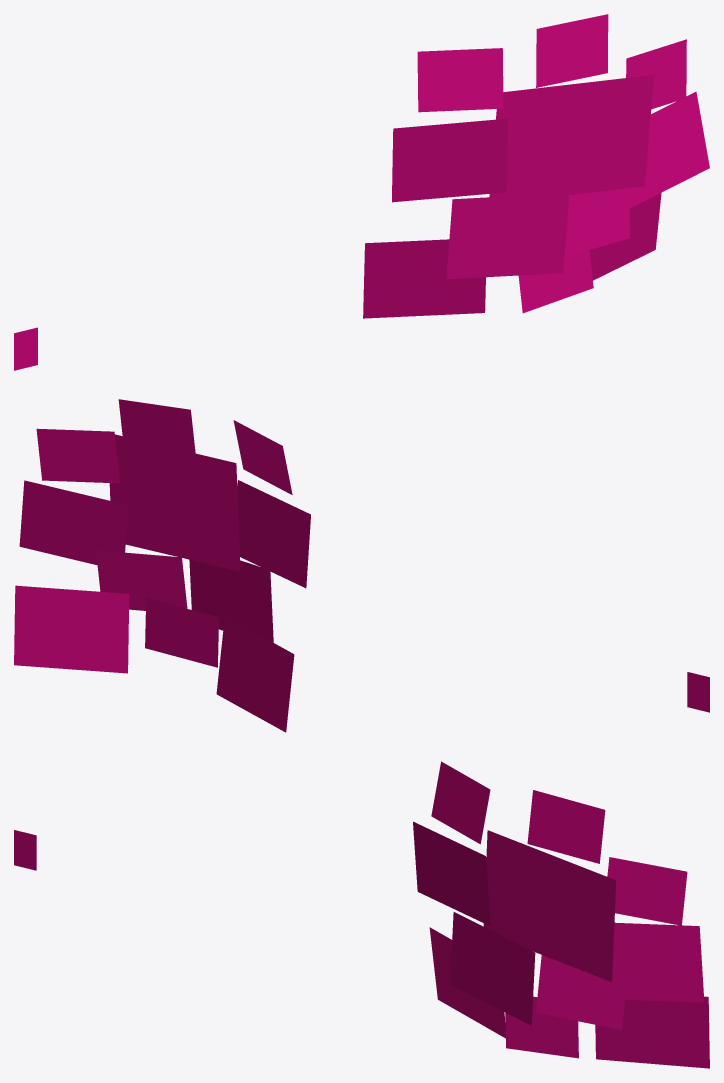
Rendered from roomscreens.fbx.
The picture shows the model from 3 angles, top to bottom: view 1: azimuth 30°, elevation 25°; view 2: azimuth 150°, elevation 25°; view 3: azimuth 330°, elevation 25°; orthographic projection. The views are drawn at different scales.
Visible parts, largest first — view 1: pPlane1, pPlane7, pPlane2, mainpc1, pPlane5, pPlane3, pPlane8, pPlane6, mainpc, pPlane4, pPlane9, doorpanel; view 2: pPlane1, mainpc, pPlane3, mainpc1, pPlane2, pPlane7, pPlane6, pPlane4, pPlane9, pPlane8, pPlane5, doorpanel; view 3: pPlane1, pPlane3, mainpc, pPlane7, pPlane2, pPlane8, pPlane6, pPlane4, pPlane5, pPlane9, mainpc1, doorpanel.
Boxes of the visible parts, bbox=[...] form: pPlane1: bbox=[489, 75, 653, 197]; pPlane7: bbox=[446, 193, 569, 279]; pPlane2: bbox=[392, 118, 507, 202]; mainpc1: bbox=[363, 239, 485, 318]; pPlane5: bbox=[417, 48, 503, 112]; pPlane3: bbox=[619, 91, 709, 211]; pPlane8: bbox=[536, 14, 608, 87]; pPlane6: bbox=[564, 189, 630, 257]; mainpc: bbox=[589, 192, 661, 280]; pPlane4: bbox=[626, 39, 686, 109]; pPlane9: bbox=[518, 250, 593, 313]; doorpanel: bbox=[14, 327, 37, 370]; pPlane1: bbox=[109, 434, 240, 571]; mainpc: bbox=[14, 585, 129, 673]; pPlane3: bbox=[19, 480, 128, 565]; mainpc1: bbox=[216, 616, 294, 732]; pPlane2: bbox=[237, 480, 310, 588]; pPlane7: bbox=[189, 559, 273, 642]; pPlane6: bbox=[96, 550, 187, 610]; pPlane4: bbox=[36, 428, 119, 483]; pPlane9: bbox=[145, 598, 218, 667]; pPlane8: bbox=[118, 399, 196, 461]; pPlane5: bbox=[233, 420, 292, 494]; doorpanel: bbox=[687, 672, 709, 712]; pPlane1: bbox=[483, 830, 616, 981]; pPlane3: bbox=[599, 922, 704, 1002]; mainpc: bbox=[595, 996, 709, 1068]; pPlane7: bbox=[450, 912, 535, 1025]; pPlane2: bbox=[413, 821, 490, 926]; pPlane8: bbox=[527, 790, 605, 863]; pPlane6: bbox=[536, 955, 624, 1029]; pPlane4: bbox=[607, 857, 687, 925]; pPlane5: bbox=[431, 761, 490, 844]; pPlane9: bbox=[505, 996, 578, 1058]; mainpc1: bbox=[429, 927, 505, 1038]; doorpanel: bbox=[14, 830, 36, 870].
Size of the model in its own units: 8.08 by 3.06 by 1.01.
